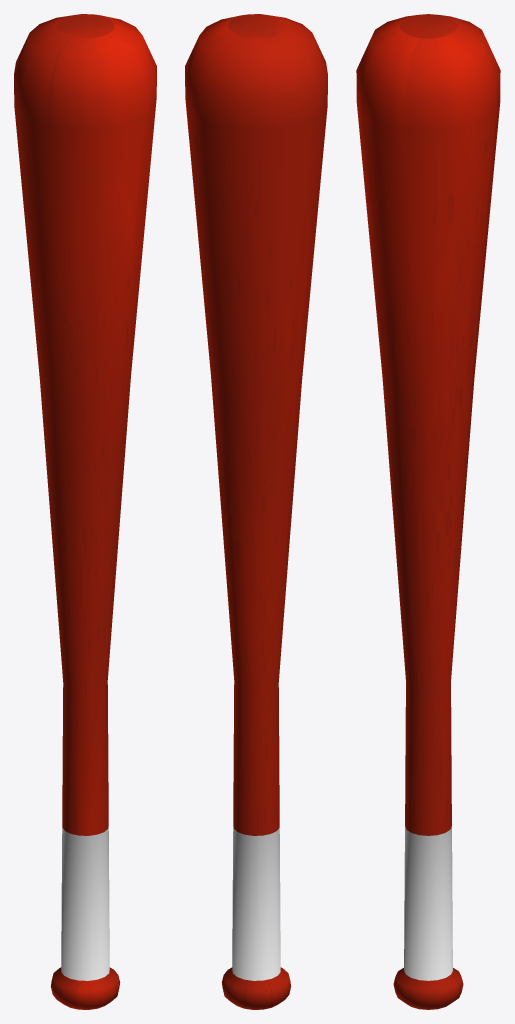
File: baseball_bat.glb
3 views of the same model, side by side, from view 1: azimuth 30°, elevation 25°; view 2: azimuth 150°, elevation 25°; view 3: azimuth 270°, elevation 25° (orthographic).
Visible parts, largest first — view 1: baseball_bat; view 2: baseball_bat; view 3: baseball_bat.
Boxes of the visible parts, x1,y1,x2,y2 form: baseball_bat: (14,14,156,1009); baseball_bat: (185,14,327,1009); baseball_bat: (356,14,500,1009).
Bounding box in the file's own units: 0.7096 × 5.31 × 0.7096.
Materials: 2 (1 with a texture image).
